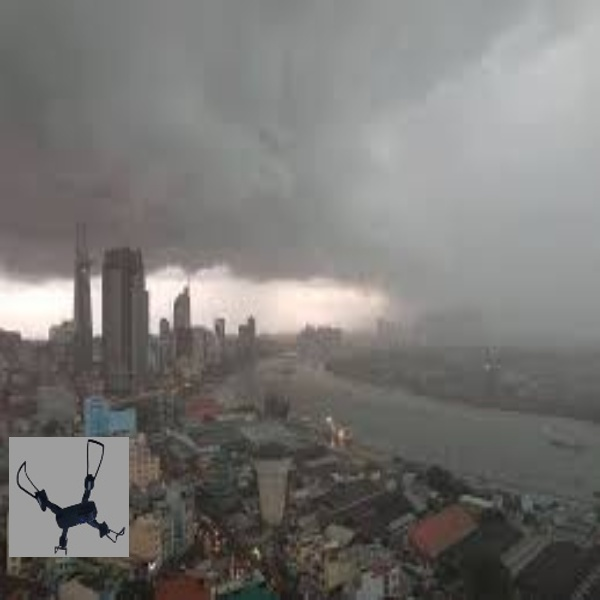drone: (15, 435, 130, 556)
